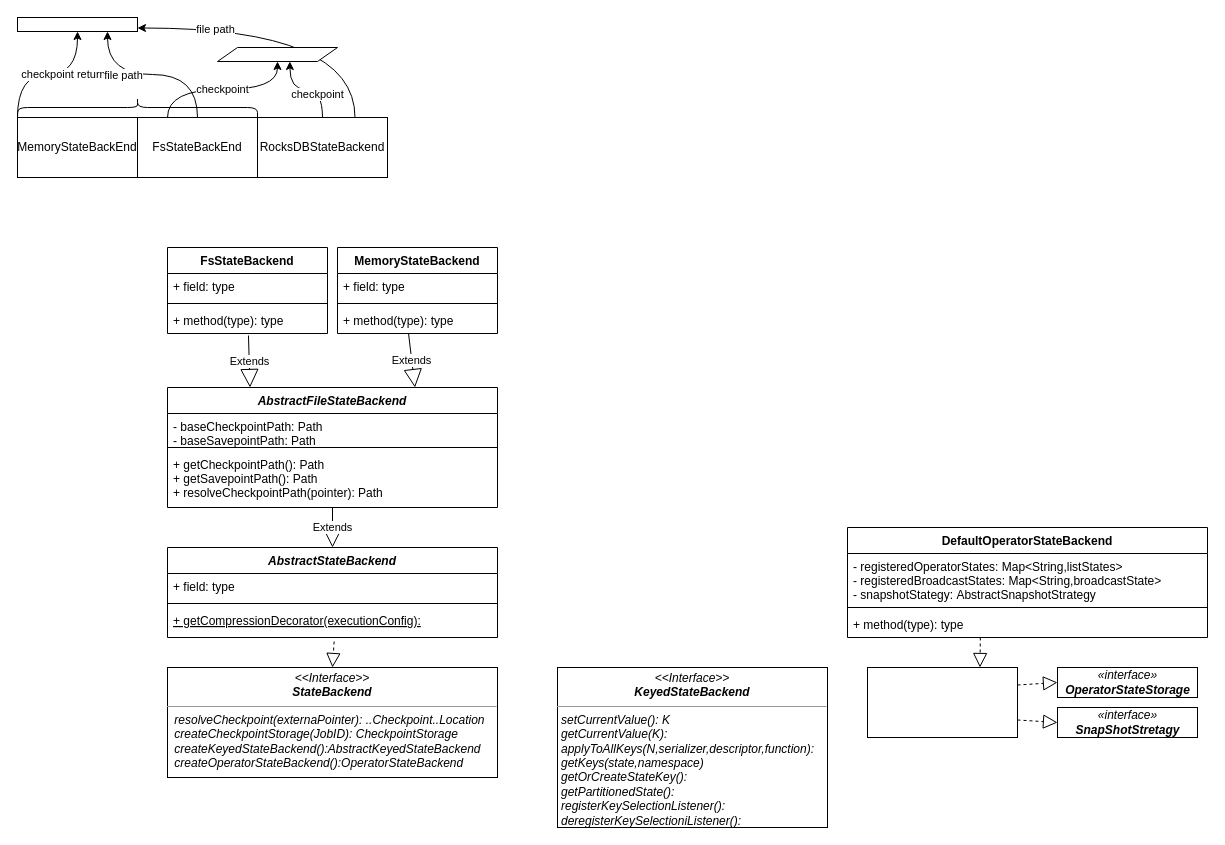
This 1225x845 diagram has some shape labels left out. Here are the shapes that lost their labels. From the top down, the centre of each, then its label:
At point (77, 24): "Master".
At point (277, 54): "FS/DB".
At point (137, 107): "Java Heap(runtime)".
At point (942, 702): "<<Interface>> OperatorStateBackend dispose():".
